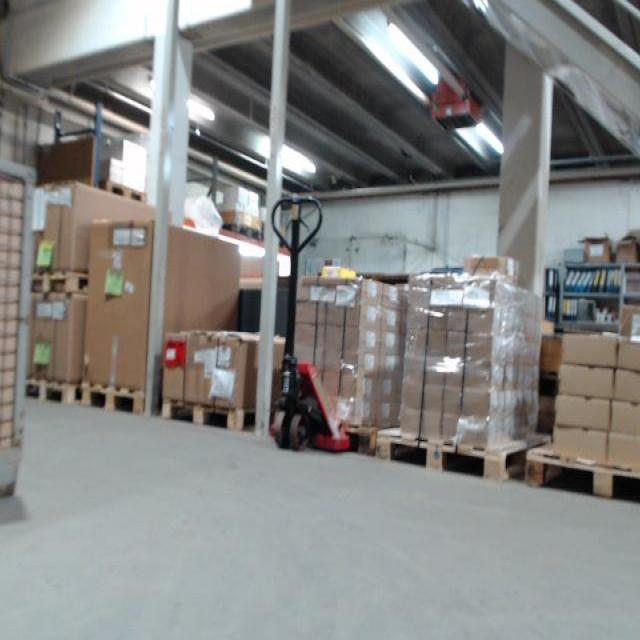pallet: (375, 421, 554, 487), (527, 437, 640, 502), (160, 394, 258, 433), (81, 379, 148, 415), (22, 375, 86, 408), (336, 420, 396, 454), (30, 268, 91, 297), (96, 177, 148, 205), (220, 219, 267, 246)
pallet_truck: (262, 189, 358, 466)
stillage: (0, 157, 39, 512)
